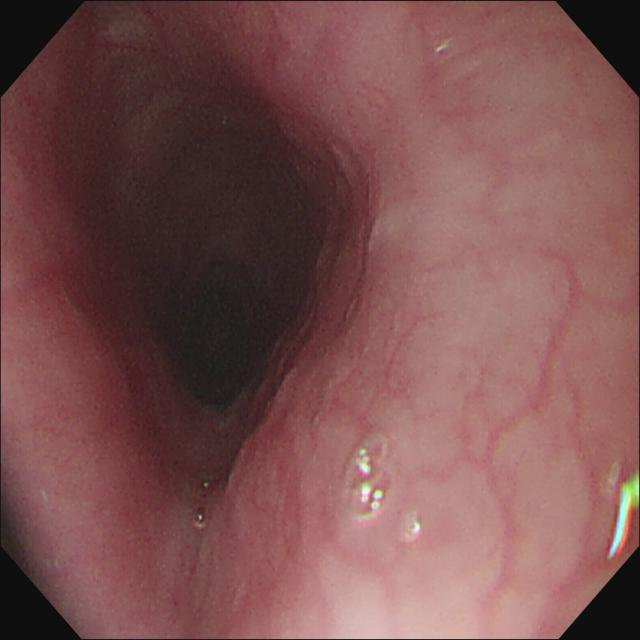E: (104, 99, 338, 434)
T: (347, 436, 390, 529)
U: (605, 461, 640, 562)
